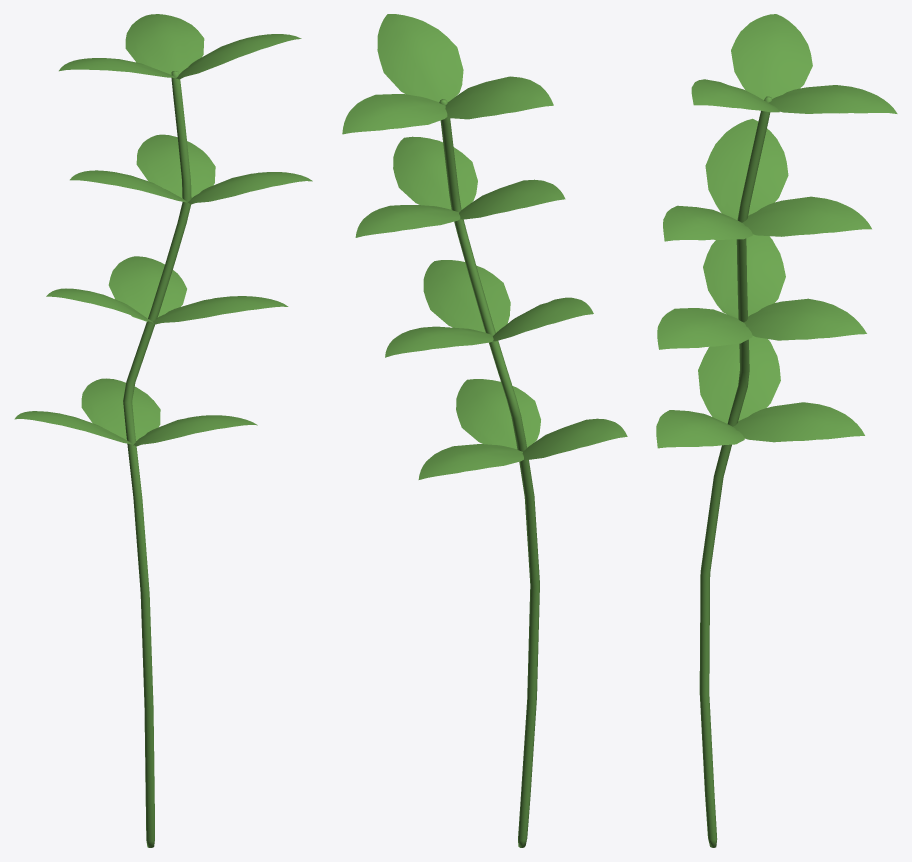
The model's file is mint_variant4.fbx.
3 views of the same model, side by side, from view 1: azimuth 30°, elevation 25°; view 2: azimuth 150°, elevation 25°; view 3: azimuth 270°, elevation 25° (orthographic). The views are drawn at different scales.
Parts seen in each view (by area): view 1: Plane.004, Curve, Plane.003, Plane.005; view 2: Plane.003, Plane.004, Plane.005, Curve; view 3: Plane.005, Plane.004, Plane.003, Curve.
Boxes of the visible parts, x1=… form: Plane.004: x1=81, y1=14, x2=215, y2=440; Curve: x1=123, y1=71, x2=191, y2=847; Plane.003: x1=133, y1=34, x2=312, y2=446; Plane.005: x1=14, y1=58, x2=189, y2=445; Plane.003: x1=377, y1=14, x2=540, y2=449; Plane.004: x1=342, y1=94, x2=523, y2=479; Plane.005: x1=445, y1=76, x2=627, y2=460; Curve: x1=439, y1=99, x2=539, y2=847; Plane.005: x1=698, y1=14, x2=812, y2=423; Plane.004: x1=733, y1=85, x2=897, y2=442; Plane.003: x1=656, y1=79, x2=779, y2=448; Curve: x1=699, y1=96, x2=771, y2=847.
Bounding box in the file's own units: 22.75 × 64.89 × 17.42.
